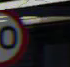Speed limit: (0, 4, 28, 64)
